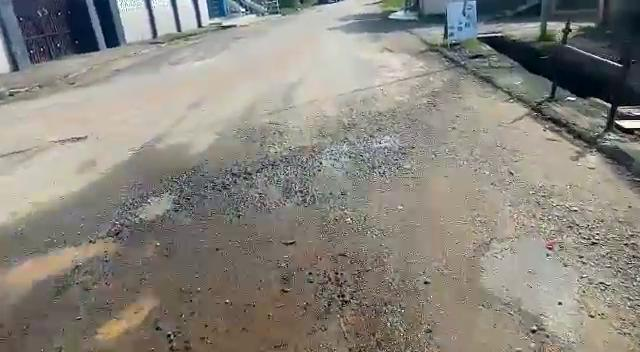pothole: (135, 186, 176, 222)
